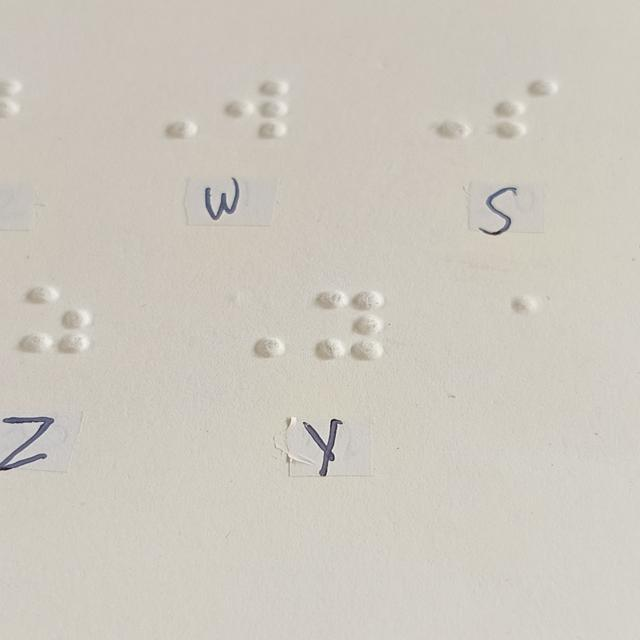S: (498, 81, 557, 141)
W: (225, 80, 287, 142)
Y: (315, 289, 385, 363)
capital: (215, 286, 286, 360), (139, 81, 202, 143), (415, 83, 474, 143)
z: (20, 286, 92, 355)
